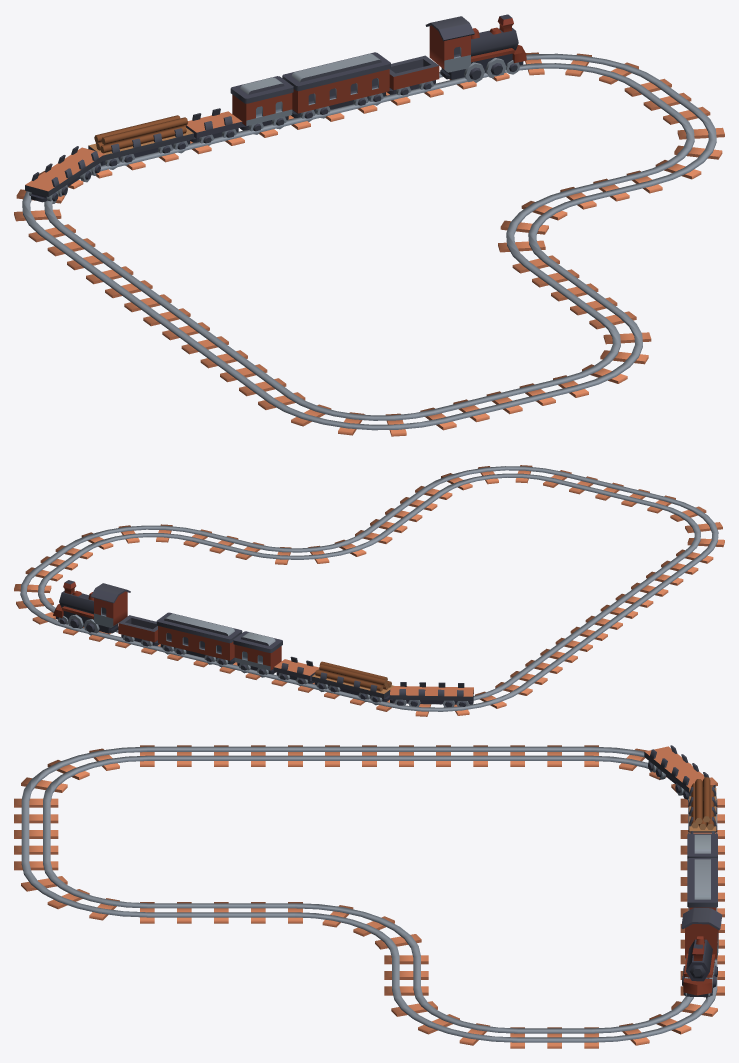
The model's file is ken-train-track.glb.
The picture shows the model from 3 angles, top to bottom: view 1: azimuth 30°, elevation 25°; view 2: azimuth 150°, elevation 25°; view 3: azimuth 270°, elevation 25°; orthographic projection. The views are drawn at different scales.
Visible parts, largest first — view 1: train-track; view 2: train-track; view 3: train-track.
Boxes of the visible parts, x1,y1,x2,y2 form: train-track: (14, 14, 724, 436); train-track: (14, 465, 724, 716); train-track: (14, 745, 724, 1048).
Size of the model in its own units: 2.52 by 0.2248 by 2.52.
1 material, 1 textured.
